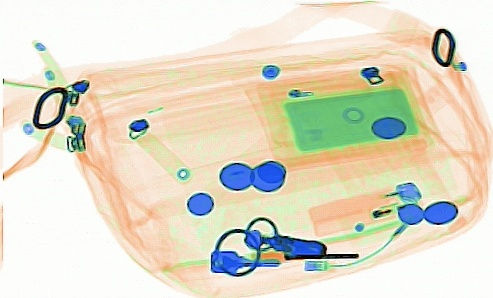lighter: (305, 182, 422, 240)
